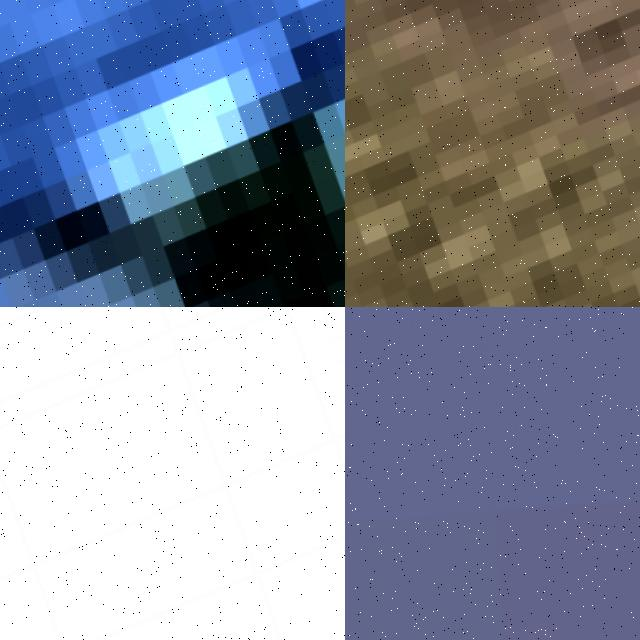0: (0, 0, 345, 307)
drone: (0, 307, 345, 640), (345, 0, 640, 307)
